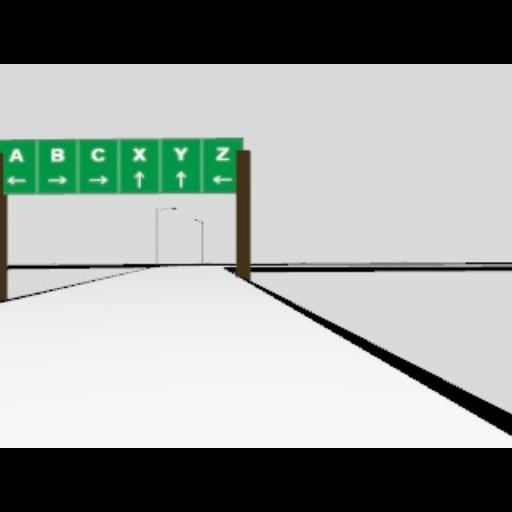A: (8, 147, 24, 161)
B: (50, 147, 64, 161)
C: (90, 147, 104, 161)
Left: (6, 174, 28, 184), (212, 174, 232, 184)
Right: (45, 174, 71, 184), (87, 174, 109, 184)
Straight: (132, 169, 144, 187), (174, 169, 186, 187)
X: (131, 146, 145, 160)
Y: (173, 146, 187, 160)
Z: (214, 146, 230, 160)
